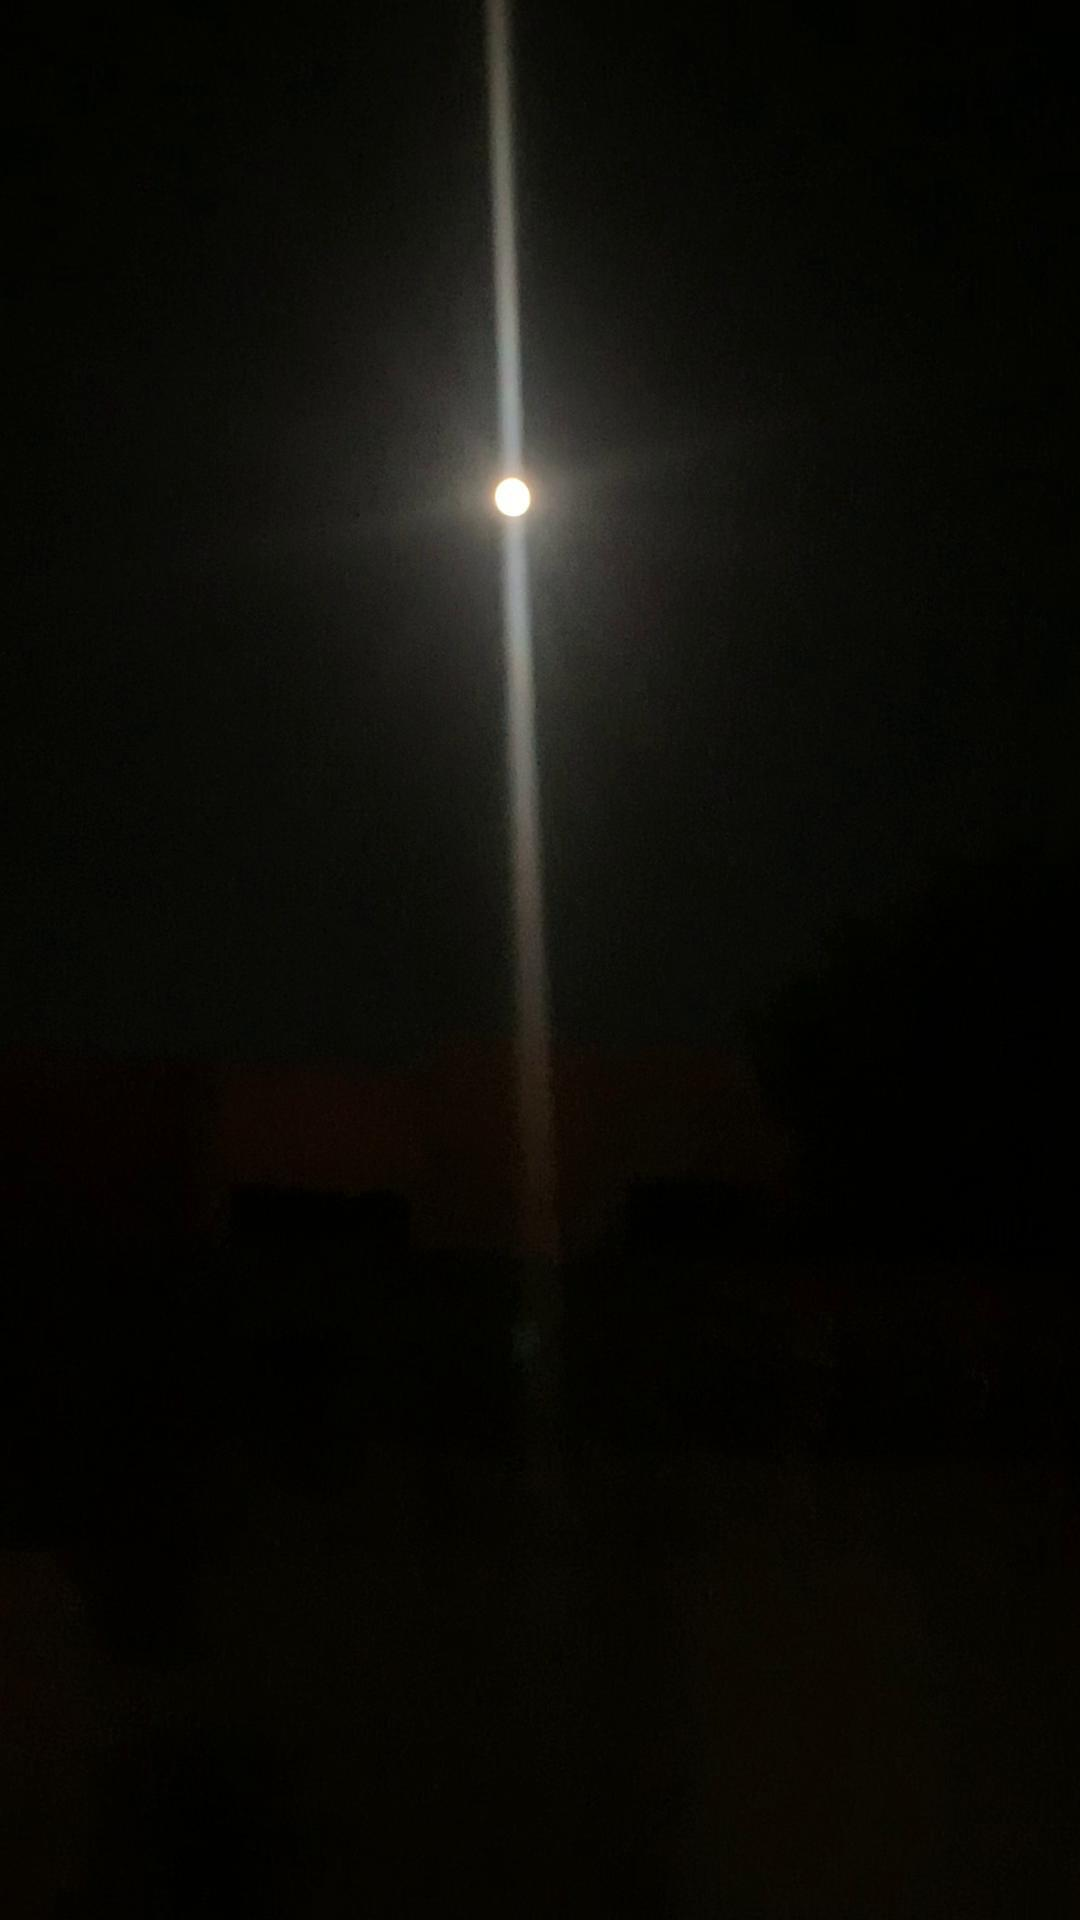moon: (452, 436, 560, 535)
